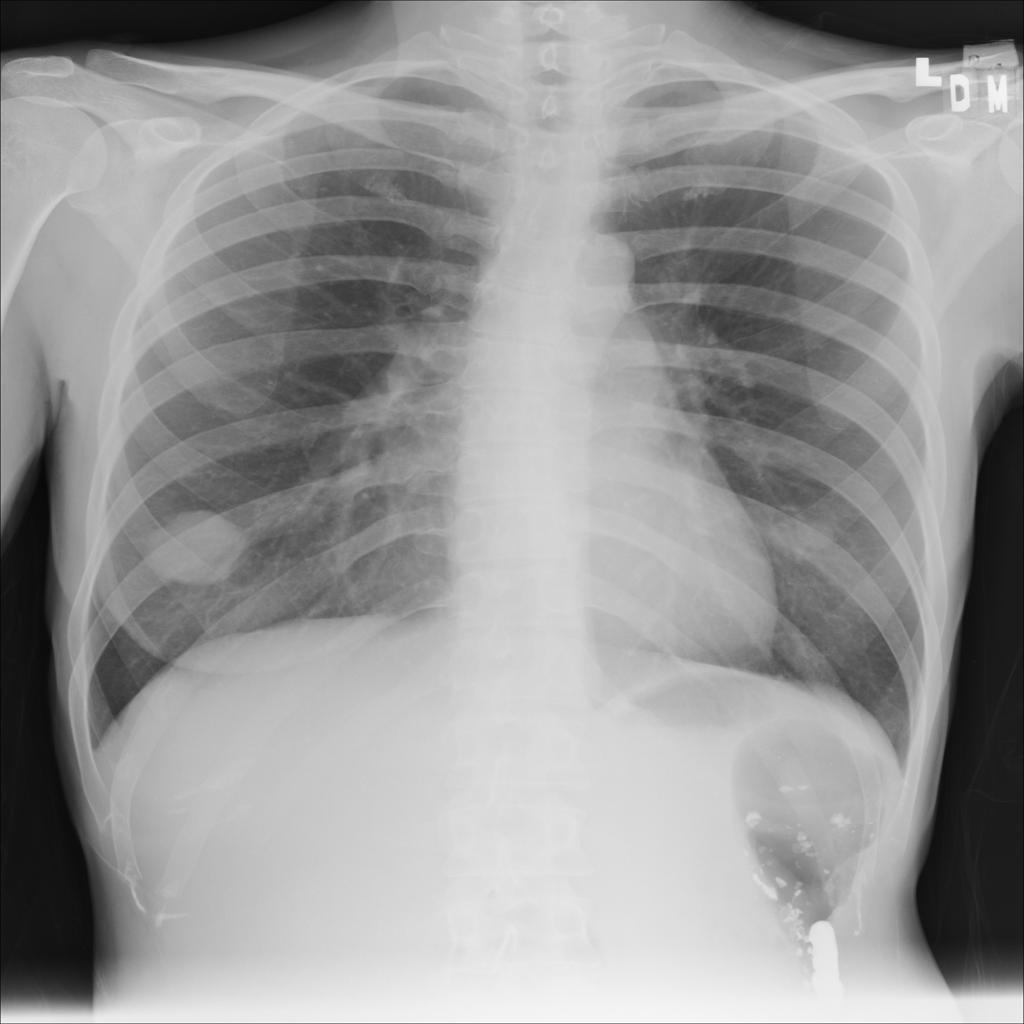nodule: (129, 491, 268, 598), (758, 497, 855, 563)
